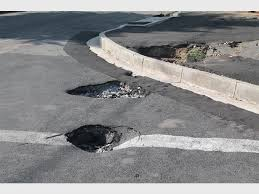pothole: (56, 116, 154, 167), (62, 73, 157, 109)
